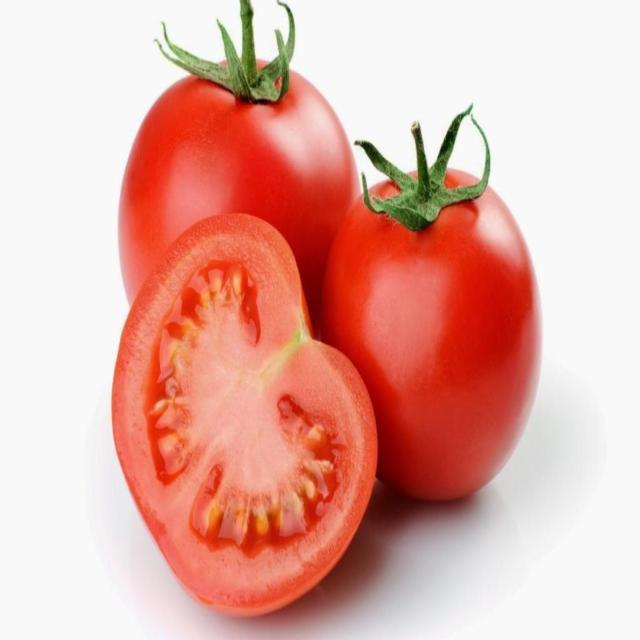kirmizi: (116, 46, 526, 592)
